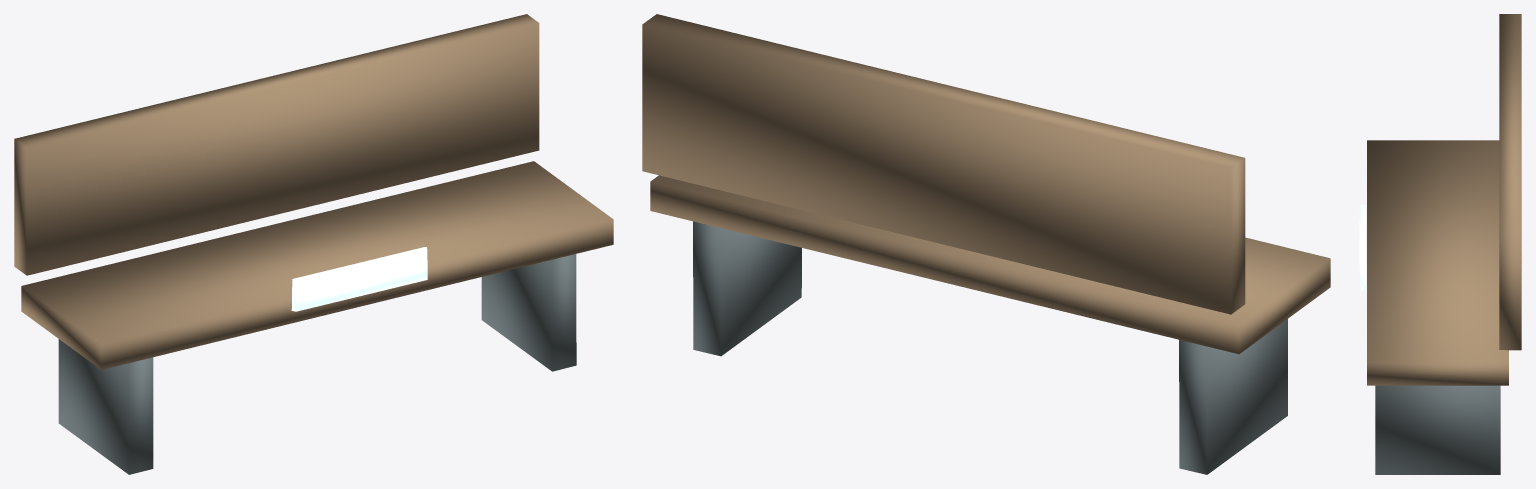
The model's file is SM_Kurpark_Bench_LOD3.fbx.
The picture shows the model from 3 angles, left to right: view 1: azimuth 30°, elevation 25°; view 2: azimuth 150°, elevation 25°; view 3: azimuth 270°, elevation 25°; orthographic projection. The views are drawn at different scales.
Visible parts, largest first — view 1: SM_Kurpark_Bench_LOD3; view 2: SM_Kurpark_Bench_LOD3; view 3: SM_Kurpark_Bench_LOD3.
Part boxes in pixels (x1=…): SM_Kurpark_Bench_LOD3: x1=14, y1=14, x2=613, y2=474; SM_Kurpark_Bench_LOD3: x1=642, y1=14, x2=1330, y2=474; SM_Kurpark_Bench_LOD3: x1=1359, y1=14, x2=1521, y2=474.
Size of the model in its own units: 1.89 by 1 by 0.5817.
